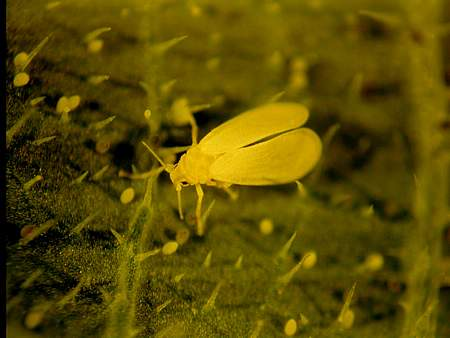whitefly: (132, 100, 322, 233)
